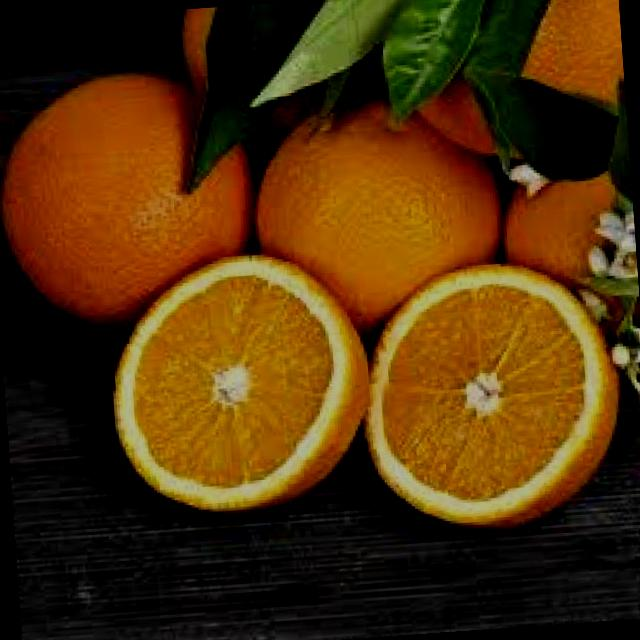Orange: (352, 252, 632, 538), (103, 242, 380, 520), (0, 61, 264, 334), (246, 84, 513, 342), (409, 0, 628, 160), (499, 162, 640, 348), (175, 0, 346, 153)
